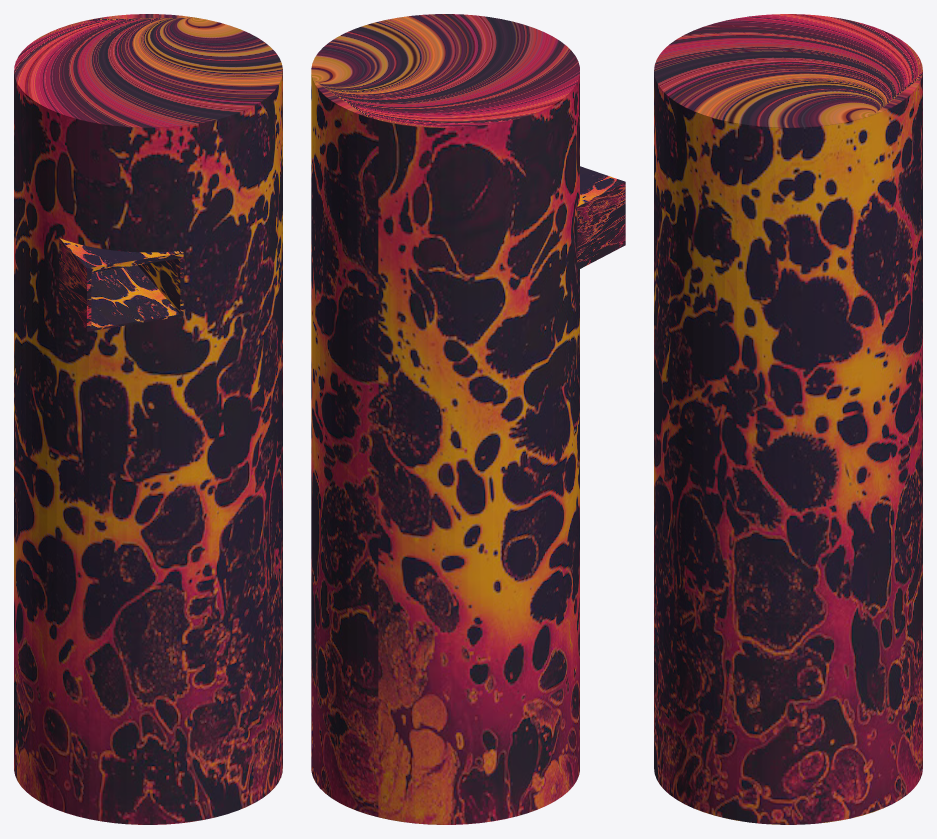
Rendered from stairs.fbx.
3 renders of one model, left to right at view 1: azimuth 30°, elevation 25°; view 2: azimuth 150°, elevation 25°; view 3: azimuth 270°, elevation 25°, orthographic.
Parts seen in each view (by area): view 1: Cylinder, Cube; view 2: Cylinder, Cube; view 3: Cylinder.
Part boxes in pixels (<box>): Cylinder: <box>14,14,282,824</box>; Cube: <box>59,238,183,331</box>; Cylinder: <box>311,14,579,824</box>; Cube: <box>577,166,625,270</box>; Cylinder: <box>654,14,922,824</box>.
Bounding box in the file's own units: 43.95 × 123 × 43.15.
